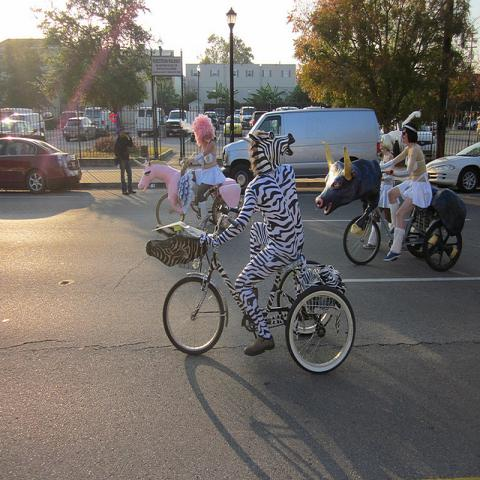car: (159, 101, 438, 159), (0, 135, 82, 194), (426, 142, 479, 191), (0, 119, 46, 143), (84, 107, 118, 136), (63, 116, 99, 142), (10, 113, 46, 139), (137, 105, 161, 138), (165, 110, 189, 137), (223, 116, 244, 137), (204, 111, 221, 130), (59, 112, 77, 128), (41, 112, 55, 130)
truck: (221, 109, 382, 194), (166, 110, 188, 137)
